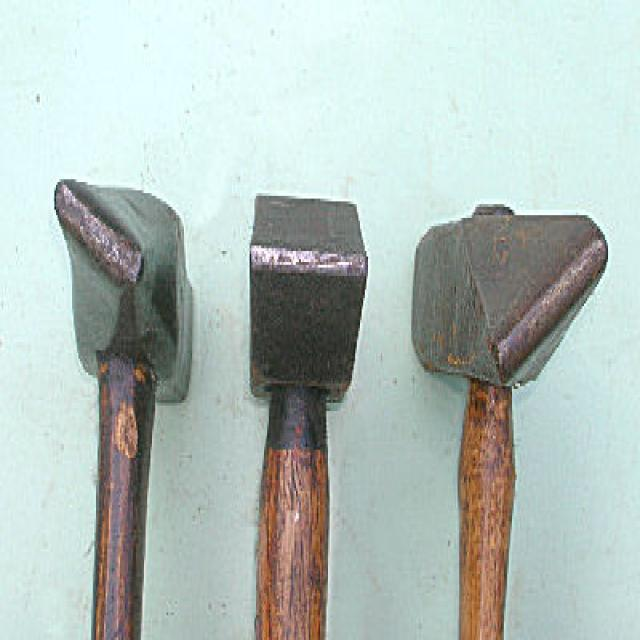hammer: (409, 198, 612, 640), (44, 156, 194, 638), (238, 180, 372, 640)
